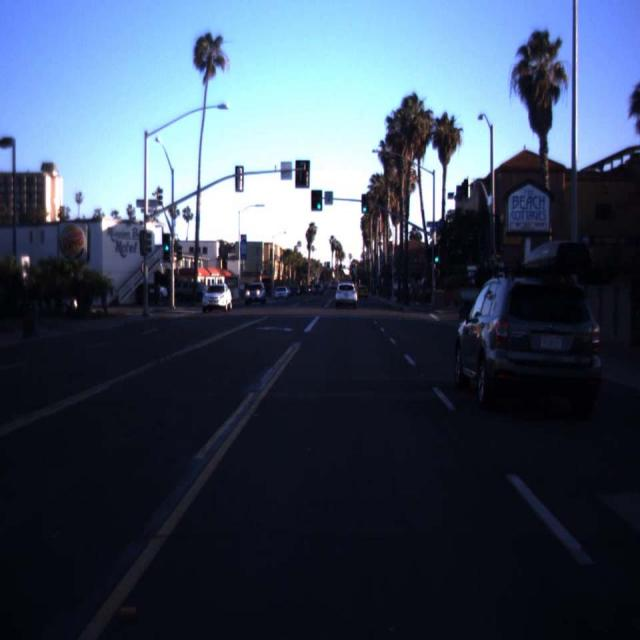yesil: (316, 190, 323, 209), (362, 195, 368, 213), (434, 245, 439, 264)
